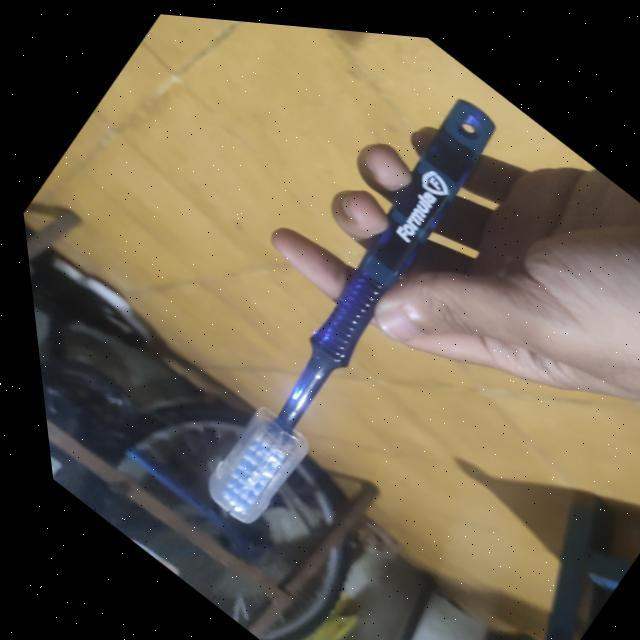toothbrush: (105, 32, 581, 576)
